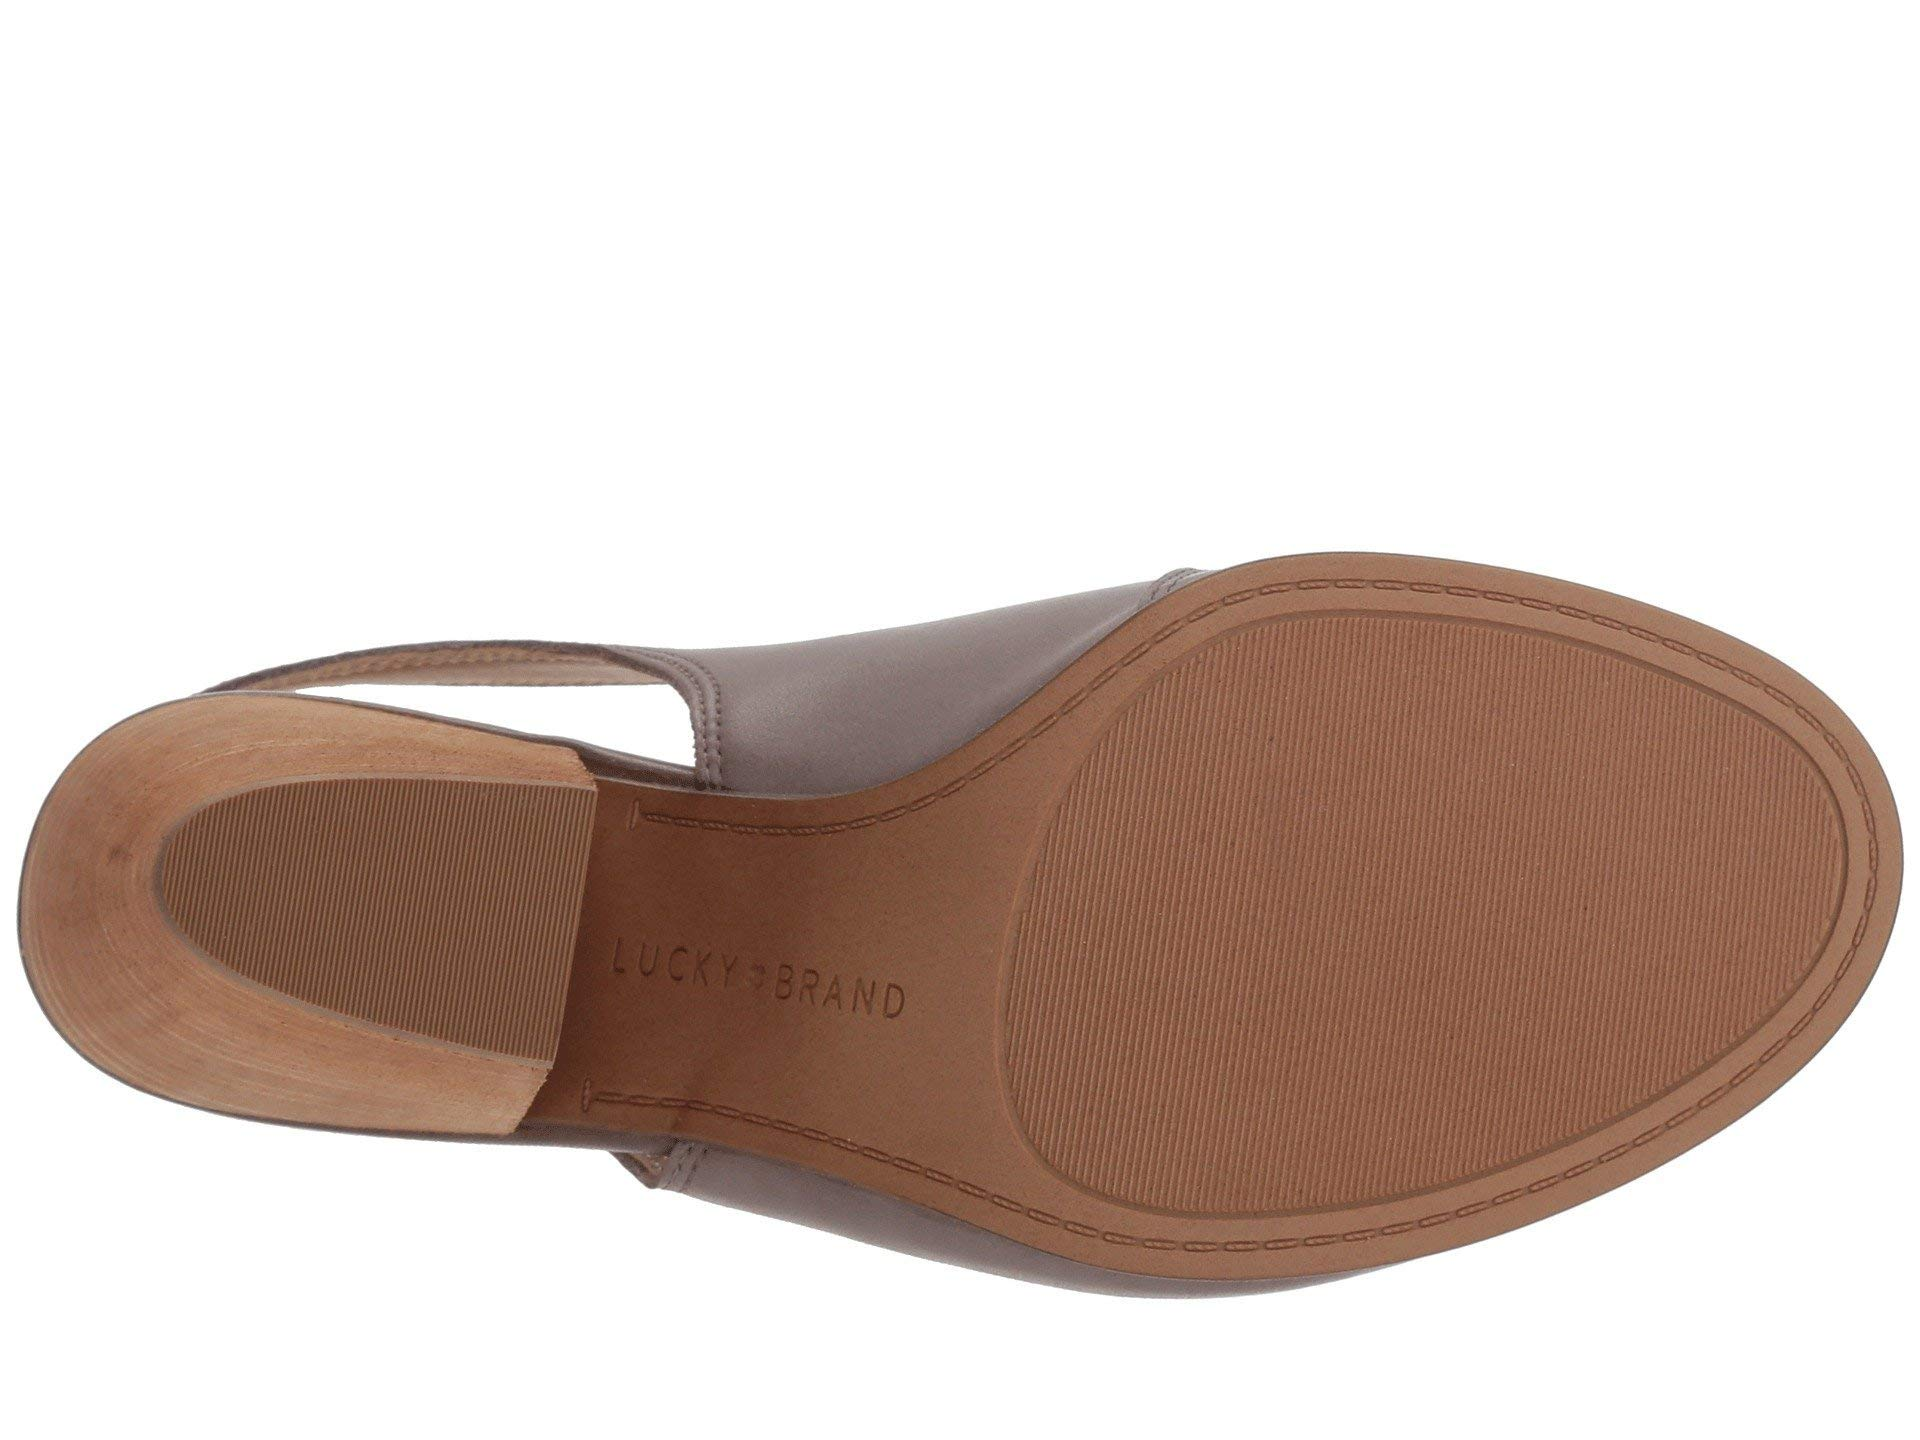exclude: (525, 740, 996, 1219)
